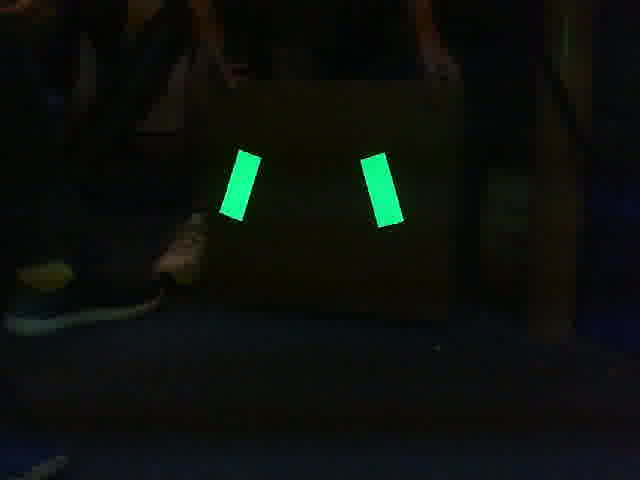target: (218, 149, 405, 228)
